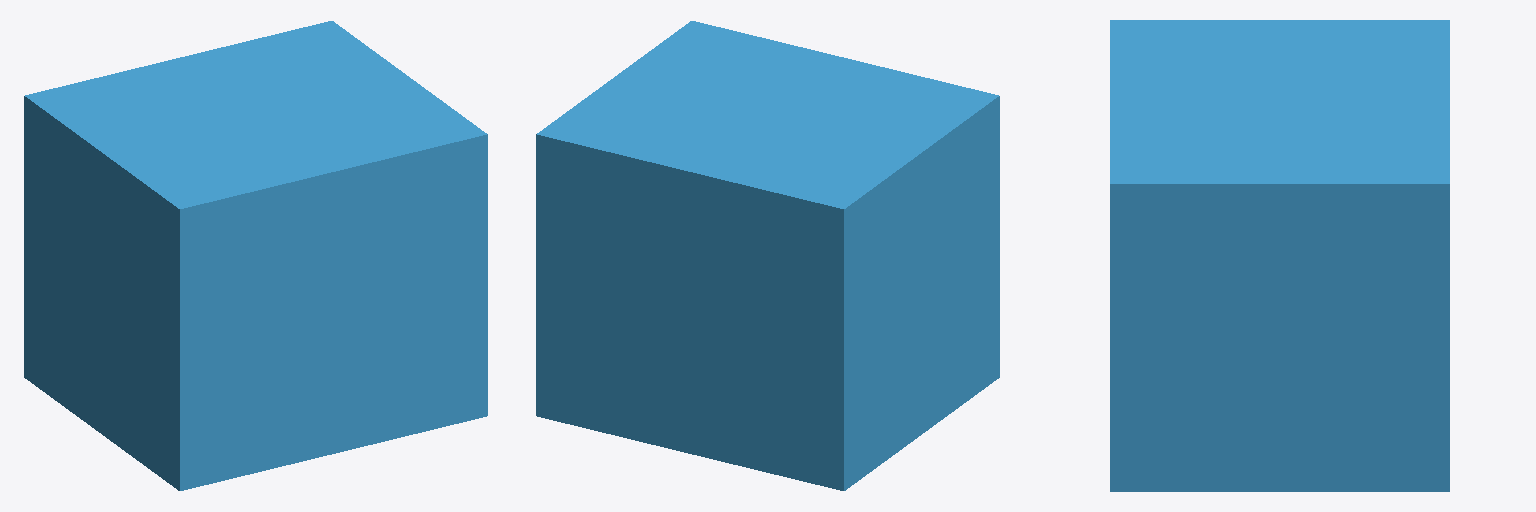
URDF robot description (right-pull-door):
<?xml version="1.0" ?>
<robot name="right-pull-door">
	<link name="base"/>
	<link name="link_0">
		<visual name="out-frame">
			<origin xyz="0 0 0"/>
			<geometry>
				<mesh filename="texture_dae/frame.dae" scale="0.6 0.6 0.6"/>
			</geometry>
		</visual>
		<collision>
			<origin xyz="0 0 0"/>
			<geometry>
				<mesh filename="texture_dae/frame.dae" scale="0.6 0.6 0.6"/>
			</geometry>
		</collision>
	</link>
	<joint name="joint_0" type="fixed">
		<origin rpy="1.570796326794897 0 -1.570796326794897" xyz="0 0 0"/>
		<child link="link_0"/>
		<parent link="base"/>
	</joint>
	<link name="link_1">
		<visual name="surf-board">
			<origin xyz="0.2818197336047888 0 0"/>
			<geometry>
				<mesh filename="texture_dae/board.dae" scale="0.6 0.6 0.6"/>
			</geometry>
		</visual>
		<collision>
			<origin xyz="0.2818197336047888 0 0"/>
			<geometry>
				<mesh filename="texture_dae/board.dae" scale="0.6 0.6 0.6"/>
			</geometry>
		</collision>
	</link>
	<joint name="joint_1" type="revolute">
		<origin xyz="-0.2818197336047888 0 0"/>
		<axis xyz="0 -1 0"/>
		<child link="link_1"/>
		<parent link="link_0"/>
		<limit lower="0" upper="1.5079644737231006"/>
	</joint>
	<link name="link_2">
		<visual name="handle">
			<origin xyz="0 0 0"/>
			<geometry>
				<mesh filename="texture_dae/9961206.dae" scale="0.5 0.5 0.5"/>
			</geometry>
		</visual>
		<collision>
			<origin xyz="0 0 0"/>
			<geometry>
				<mesh filename="texture_dae/9961206.dae" scale="0.5 0.5 0.5"/>
			</geometry>
		</collision>
	</link>
	<joint name="joint_2" type="revolute">
		<origin xyz="0.2818197336047888 0 0.02001106489809923"/>
		<child link="link_2"/>
		<parent link="link_1"/>
		<axis xyz="0 0 1"/>
		<limit lower="0" upper="1.5079644737231006"/>
	</joint>
</robot>

--- Facts derived from the render (not from the file) ---
Views: 3 orthographic renders of the robot side by side, from view 1: azimuth 30°, elevation 25°; view 2: azimuth 150°, elevation 25°; view 3: azimuth 270°, elevation 25°.
Robot: right-pull-door — 4 links, 3 joints (2 revolute, 1 fixed); root link base; default pose: all joints at 0.
Visible links, largest first — view 1: link_0; view 2: link_0; view 3: link_0.
Boxes of the visible links, x1,y1,x2,y2 form: link_0: (24,21,487,490); link_0: (536,21,999,490); link_0: (1110,20,1449,491).
Size in the robot's own frame: 0.7781 by 0.6808 by 0.7308 metres.
Meshes: 3 distinct files referenced, 3 mesh visuals loaded (3 Collada DAE).
